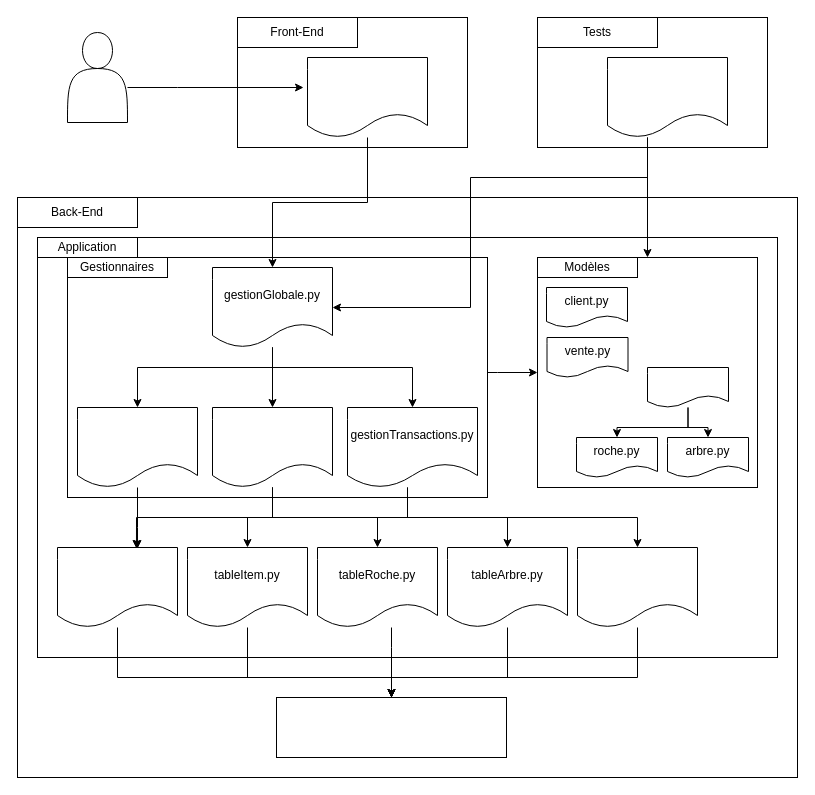
This 815x795 diagram has some shape labels left out. The centre of each missing label's shape, as x and y in pixels:
app.py: point (367, 97)
Base de données PostgreSQL: point (391, 727)
gestionClients.py: point (137, 447)
gestionProduits.py: point (272, 447)
item.py: point (687, 387)
tableClient.py: point (117, 587)
tableVente.py: point (637, 587)
tests.py: point (667, 97)
